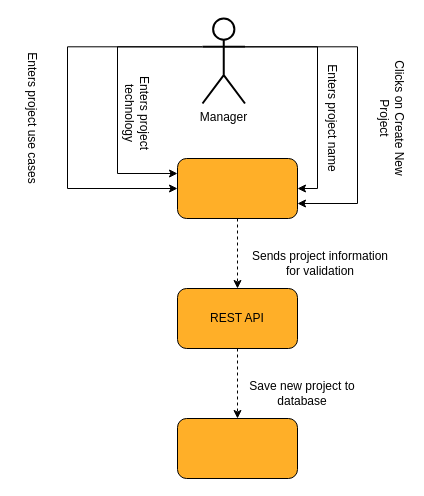
Some shapes in this 424 by 496 pixel diagram are drawn without their labels. Each missing label, with the centre of its shape:
Database: the point at 237,448
Frontend: the point at 237,188
